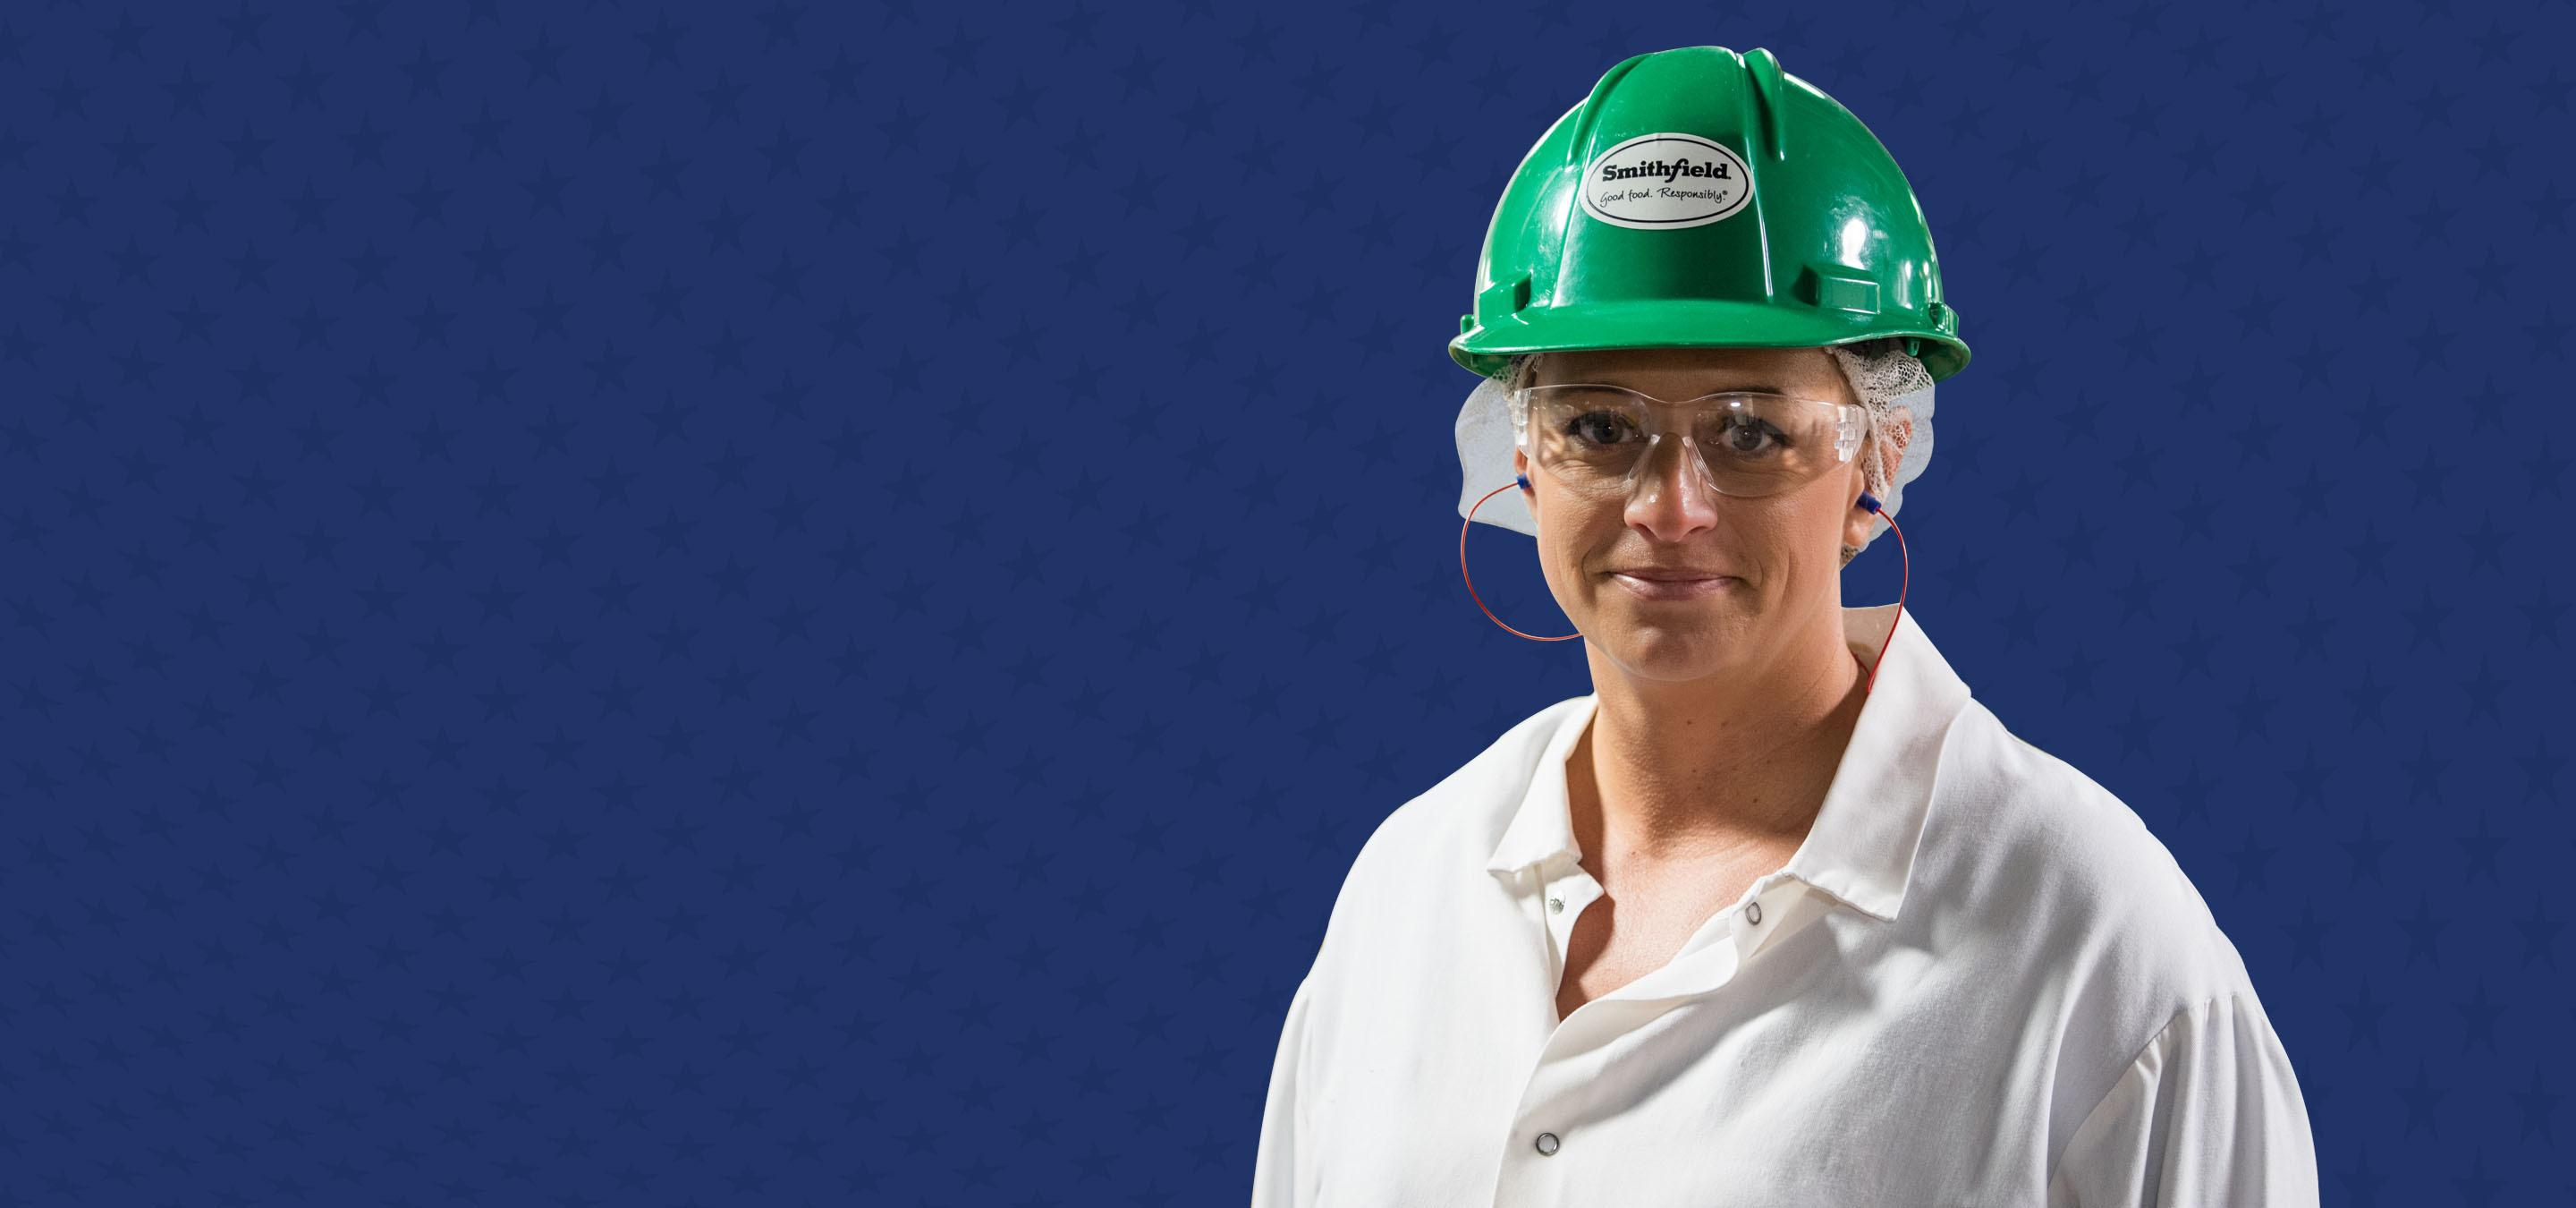helmet: (1456, 46, 1971, 370)
